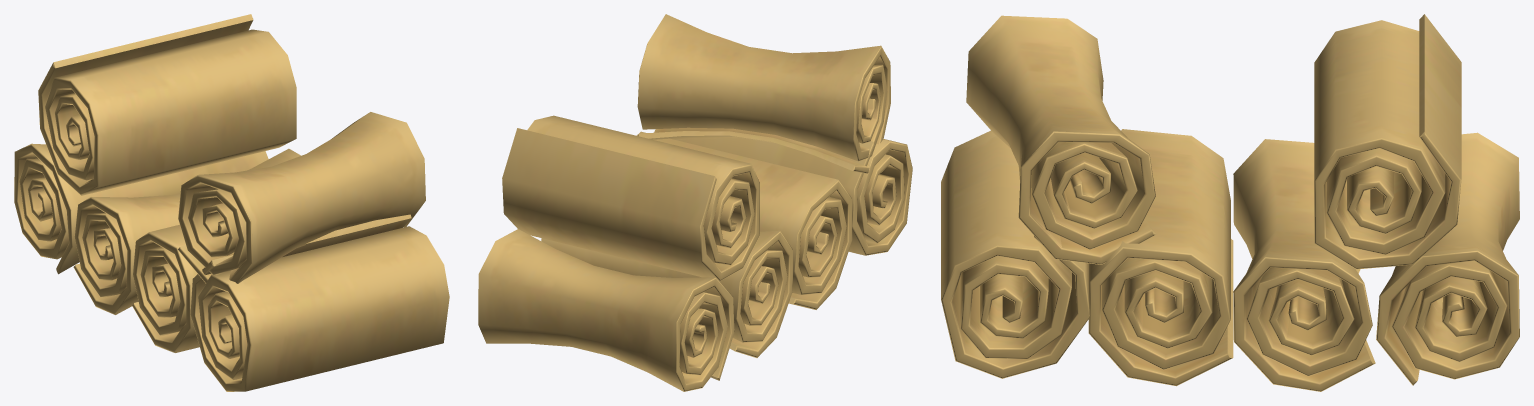
Rendered from Rolls.fbx.
3 views of the same model, side by side, from view 1: azimuth 30°, elevation 25°; view 2: azimuth 150°, elevation 25°; view 3: azimuth 270°, elevation 25° (orthographic). The views are drawn at different scales.
Parts seen in each view (by area): view 1: roll1; view 2: roll1; view 3: roll1.
Boxes of the visible parts, bbox=[...] form: roll1: bbox=[14, 14, 449, 391]; roll1: bbox=[478, 14, 912, 391]; roll1: bbox=[941, 14, 1519, 391].
Bounding box in the file's own units: 295 × 284 × 567.
